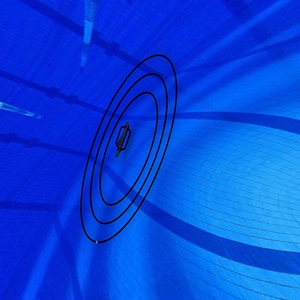circle: (75, 51, 185, 251)
submarine: (112, 119, 143, 164)
